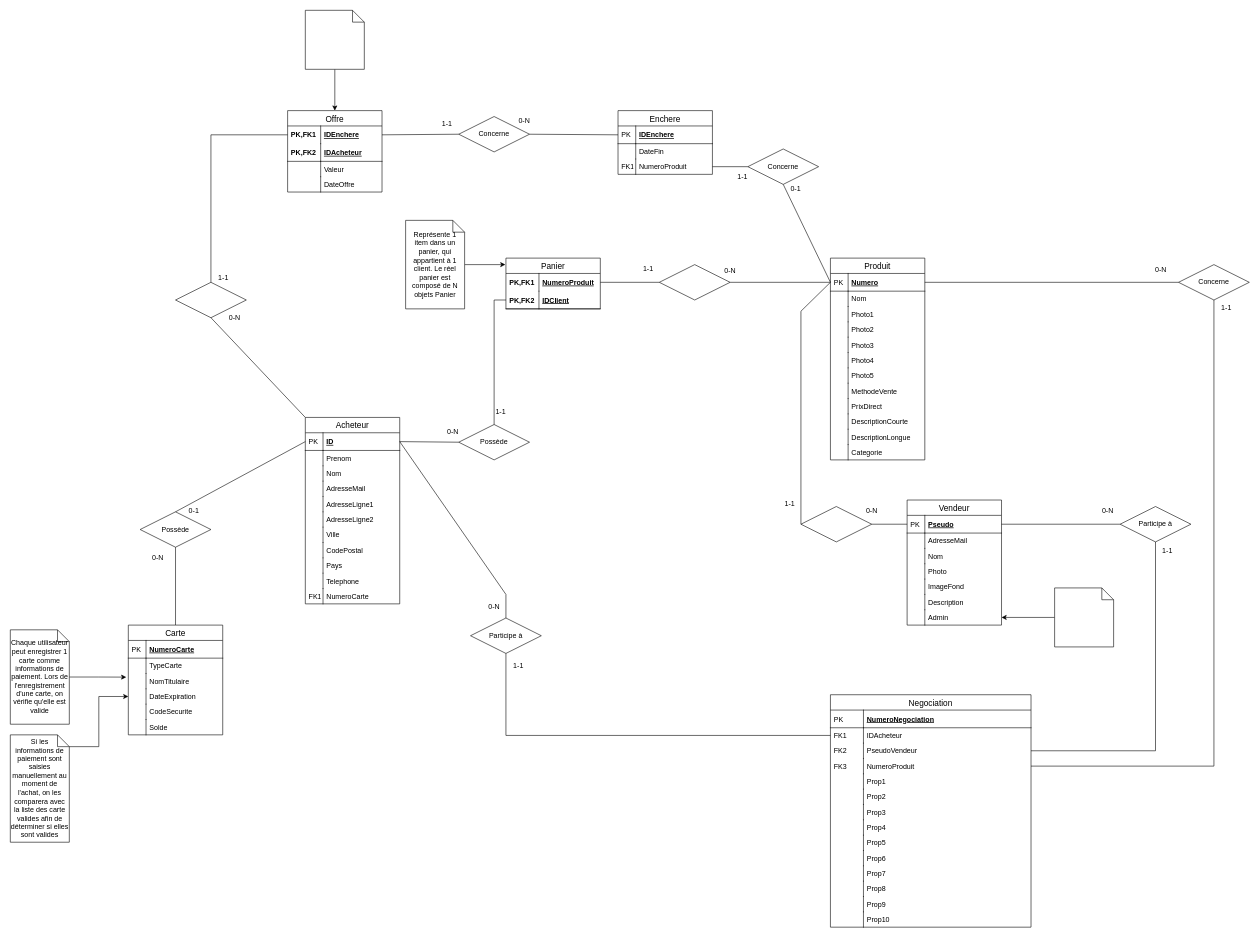
The diagram is 1260 pixels wide and 939 high, and some of its shapes have lost their labels. The centre of each missing label's shape, as x and y in pixels:
"Booléen" goes at point 1084,617.
"Effectue" goes at point 210,300.
"Est dans" goes at point 694,282.
"Un client peut effectuer N offres, mais 1 seulement par enchère" goes at point 334,39.
"Vend" goes at point 836,524.
